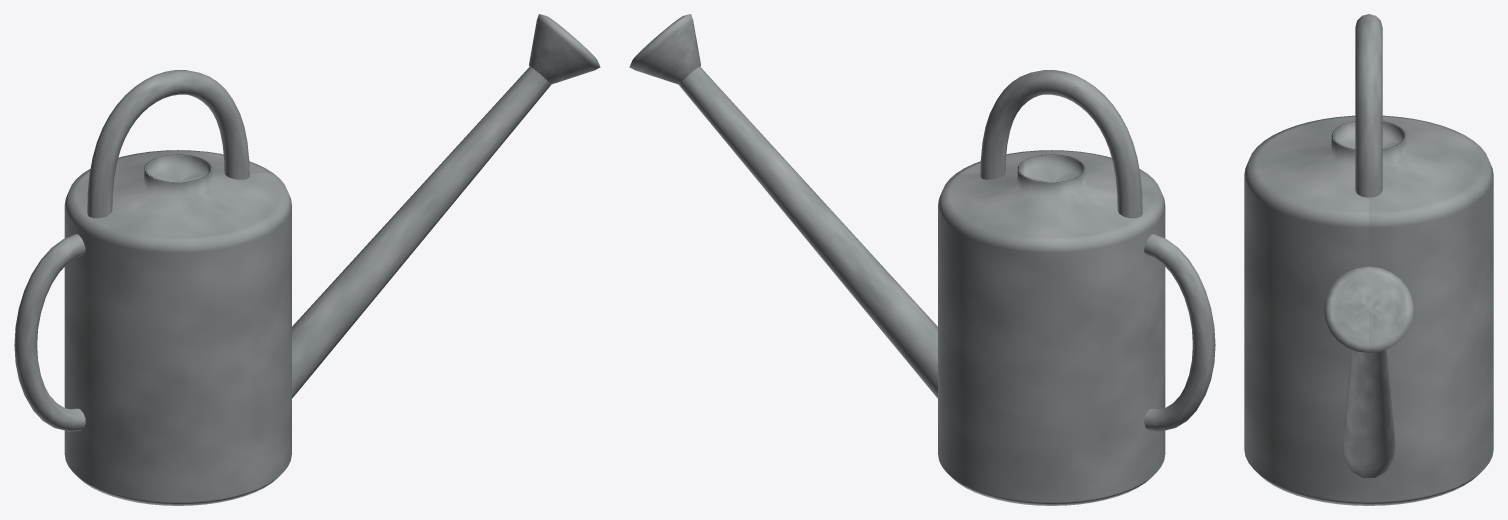
The picture shows the model from 3 angles, left to right: view 1: azimuth 30°, elevation 25°; view 2: azimuth 150°, elevation 25°; view 3: azimuth 270°, elevation 25°; orthographic projection. The views are drawn at different scales.
Visible parts, largest first — view 1: Watering can, galvanised; view 2: Watering can, galvanised; view 3: Watering can, galvanised.
Part boxes in pixels (<box>): Watering can, galvanised: <box>14,14,600,505</box>; Watering can, galvanised: <box>629,14,1215,505</box>; Watering can, galvanised: <box>1244,14,1493,505</box>.
Bounding box in the file's own units: 0.5862 × 0.379 × 0.2.
1 material, 1 textured.
